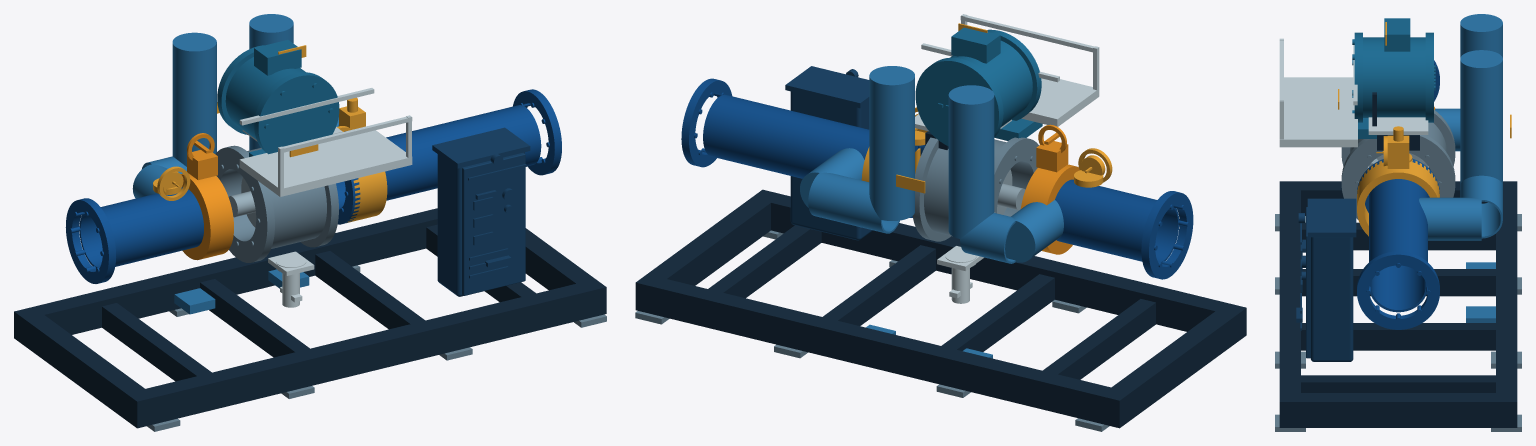
File: regenflow.glb
The picture shows the model from 3 angles, left to right: view 1: azimuth 30°, elevation 25°; view 2: azimuth 150°, elevation 25°; view 3: azimuth 270°, elevation 25°; orthographic projection. The views are drawn at different scales.
Visible parts, largest first — view 1: regenflow.skid_frame, regenflow.control_cabinet, regenflow.generator, regenflow.inlet_pressure_pipe, regenflow.service_bypass, regenflow.service_platform, regenflow.outlet_pressure_pipe, regenflow.pat_housing, regenflow.isolation_valve, regenflow.instrumentation, regenflow.drain_access, regenflow.pat_runner; view 2: regenflow.skid_frame, regenflow.service_bypass, regenflow.outlet_pressure_pipe, regenflow.inlet_pressure_pipe, regenflow.generator, regenflow.control_cabinet, regenflow.pat_housing, regenflow.service_platform, regenflow.isolation_valve, regenflow.instrumentation, regenflow.drain_access, regenflow.pat_runner; view 3: regenflow.skid_frame, regenflow.service_bypass, regenflow.outlet_pressure_pipe, regenflow.control_cabinet, regenflow.generator, regenflow.service_platform, regenflow.pat_housing, regenflow.instrumentation, regenflow.service_cover, regenflow.runner_coupling_guard.
Boxes of the visible parts, <box> form: regenflow.skid_frame: <box>14,208,606,428</box>; regenflow.control_cabinet: <box>432,127,530,296</box>; regenflow.generator: <box>217,40,339,156</box>; regenflow.inlet_pressure_pipe: <box>65,187,203,283</box>; regenflow.service_bypass: <box>132,14,338,314</box>; regenflow.service_platform: <box>239,88,412,196</box>; regenflow.outlet_pressure_pipe: <box>336,89,561,224</box>; regenflow.pat_housing: <box>215,145,338,262</box>; regenflow.isolation_valve: <box>181,150,233,260</box>; regenflow.instrumentation: <box>153,97,387,222</box>; regenflow.drain_access: <box>268,251,314,307</box>; regenflow.pat_runner: <box>228,177,256,227</box>; regenflow.skid_frame: <box>635,189,1246,428</box>; regenflow.service_bypass: <box>800,66,1063,358</box>; regenflow.outlet_pressure_pipe: <box>681,78,925,217</box>; regenflow.inlet_pressure_pipe: <box>1055,179,1193,279</box>; regenflow.generator: <box>915,27,1042,146</box>; regenflow.control_cabinet: <box>785,66,872,240</box>; regenflow.pat_housing: <box>912,137,1038,241</box>; regenflow.service_platform: <box>921,14,1099,126</box>; regenflow.isolation_valve: <box>1020,141,1079,254</box>; regenflow.instrumentation: <box>861,107,1112,187</box>; regenflow.drain_access: <box>937,246,983,303</box>; regenflow.pat_runner: <box>997,169,1025,214</box>; regenflow.skid_frame: <box>1279,181,1517,427</box>; regenflow.service_bypass: <box>1419,14,1502,322</box>; regenflow.outlet_pressure_pipe: <box>1357,158,1439,329</box>; regenflow.control_cabinet: <box>1296,198,1356,361</box>; regenflow.generator: <box>1352,18,1435,138</box>; regenflow.service_platform: <box>1279,38,1357,147</box>; regenflow.pat_housing: <box>1341,110,1455,219</box>; regenflow.instrumentation: <box>1357,126,1439,236</box>; regenflow.service_cover: <box>1368,117,1428,134</box>; regenflow.runner_coupling_guard: <box>1372,92,1419,150</box>.
Size of the model in its own units: 2200 by 1314 by 1040.
